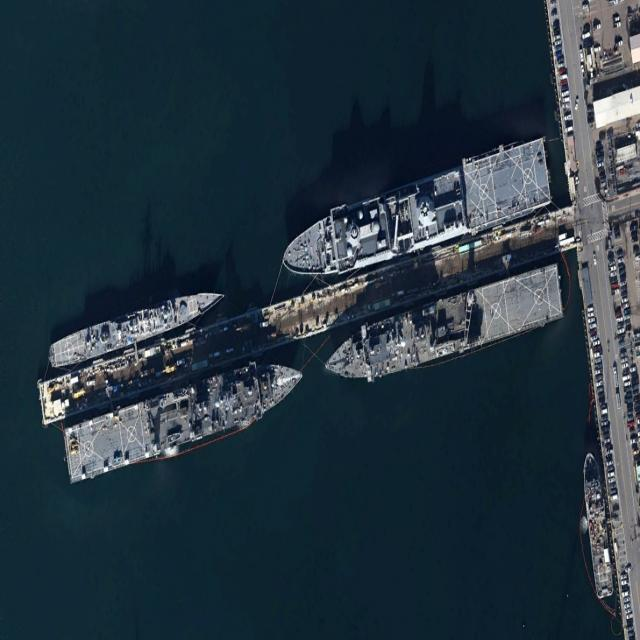Auxiliary Ships: (278, 130, 552, 303)
Frigate: (47, 278, 227, 372)
Landing: (61, 340, 308, 487), (320, 258, 565, 397)
